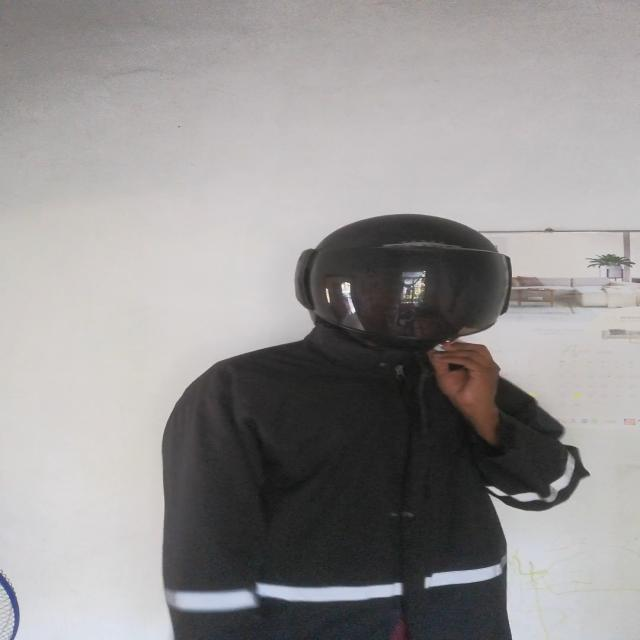Helmet_Wearer: (283, 202, 530, 378)
Jacket_Wearer: (151, 303, 618, 640)
Person: (151, 212, 587, 640)
